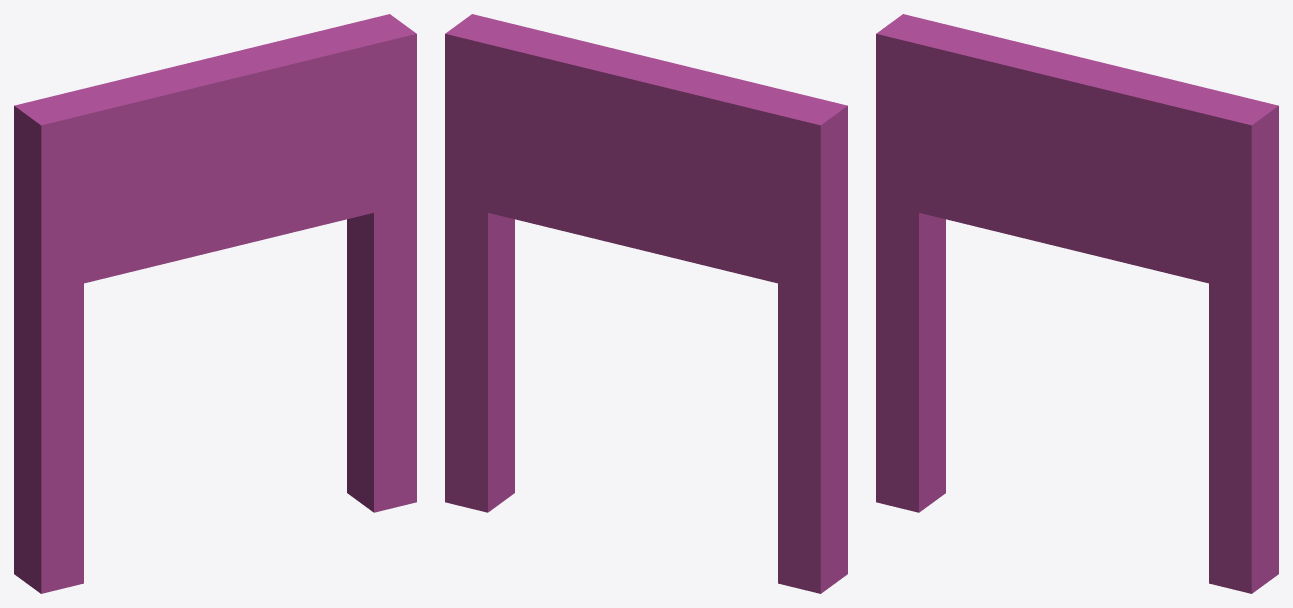
File: SM_Bld_Base_Wall_Door_Double_01_Collision.gltf
3 renders of one model, left to right at view 1: azimuth 30°, elevation 25°; view 2: azimuth 150°, elevation 25°; view 3: azimuth 330°, elevation 25°, orthographic.
Visible parts, largest first — view 1: SM_Bld_Base_Wall_Door_Double_01_Collision; view 2: SM_Bld_Base_Wall_Door_Double_01_Collision; view 3: SM_Bld_Base_Wall_Door_Double_01_Collision.
Part boxes in pixels (<box>): SM_Bld_Base_Wall_Door_Double_01_Collision: <box>14,14,416,593</box>; SM_Bld_Base_Wall_Door_Double_01_Collision: <box>445,14,847,593</box>; SM_Bld_Base_Wall_Door_Double_01_Collision: <box>876,14,1278,593</box>.
Bounding box in the file's own units: 2.53 × 3.02 × 0.3156.
